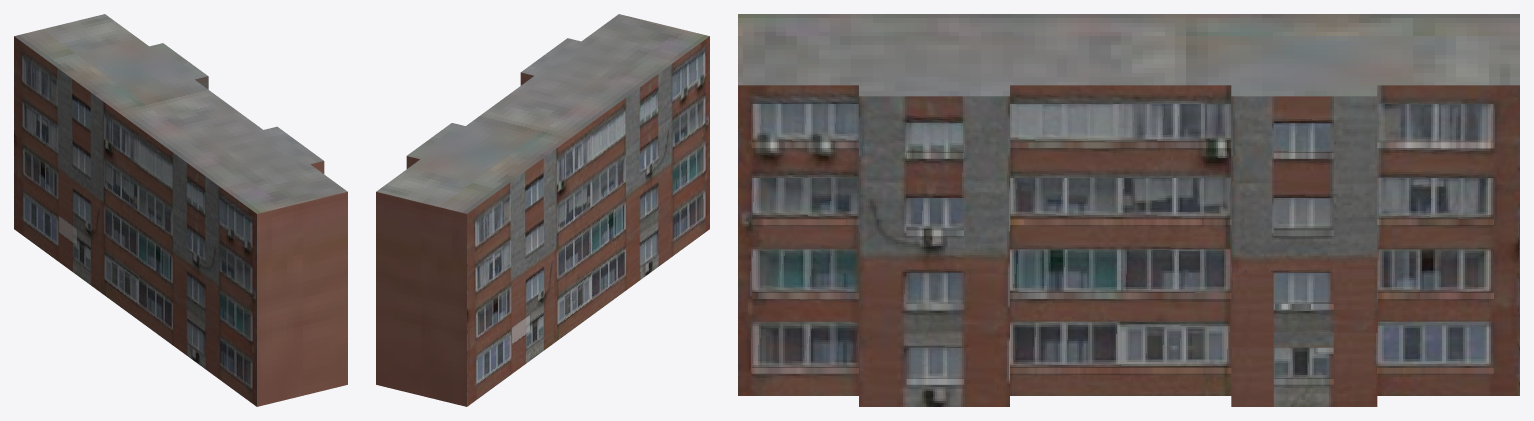
File: modular_brick1.glb
3 renders of one model, left to right at view 1: azimuth 30°, elevation 25°; view 2: azimuth 150°, elevation 25°; view 3: azimuth 270°, elevation 25°, orthographic. The views are drawn at different scales.
Visible parts, largest first — view 1: Cube; view 2: Cube; view 3: Cube.
Boxes of the visible parts, x1,y1,x2,y2 form: Cube: (14,14,347,406); Cube: (376,14,709,406); Cube: (738,14,1519,406).
Size of the model in its own units: 19.34 by 34.04 by 77.64.
Materials: 1 (1 with a texture image).
